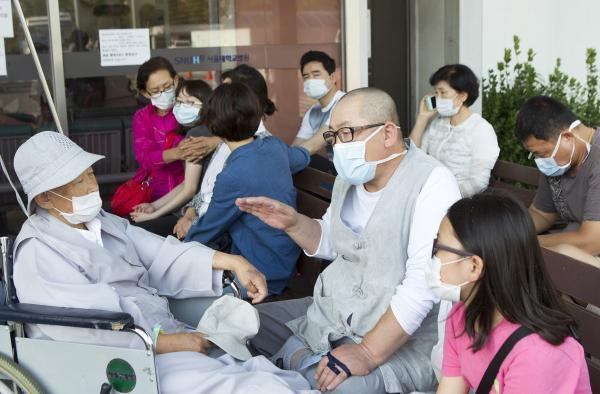OK: (332, 116, 379, 185), (427, 233, 468, 300), (530, 141, 572, 176), (147, 76, 176, 113), (173, 93, 205, 125), (304, 64, 333, 99), (435, 84, 463, 117)
WRONG: (58, 166, 101, 221)
